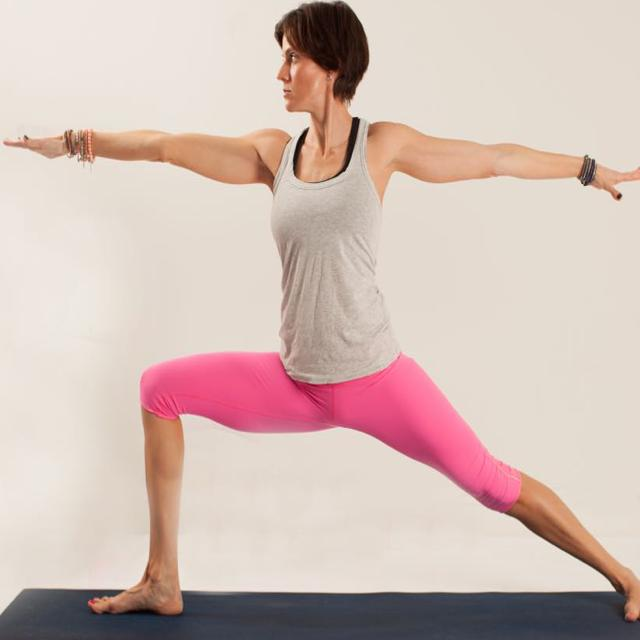Warrior_II: (10, 6, 640, 620)
